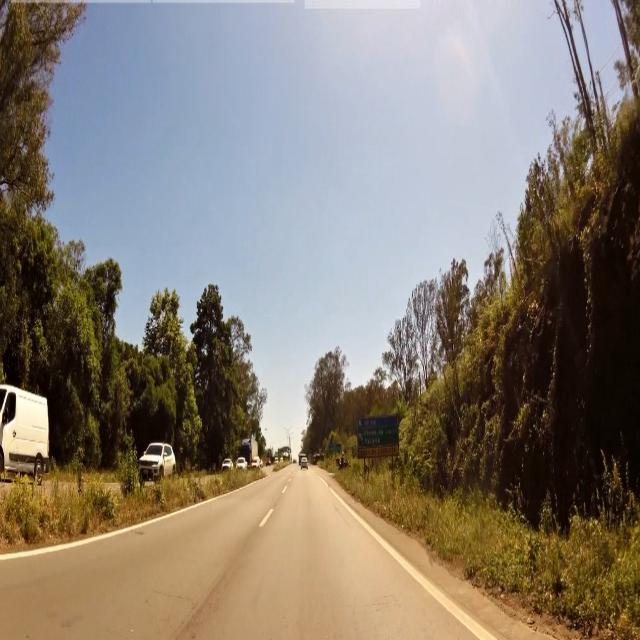I-4: (358, 428, 398, 445)
